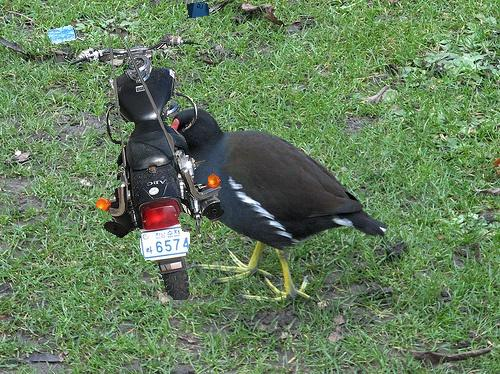tampered: (48, 2, 224, 300)
